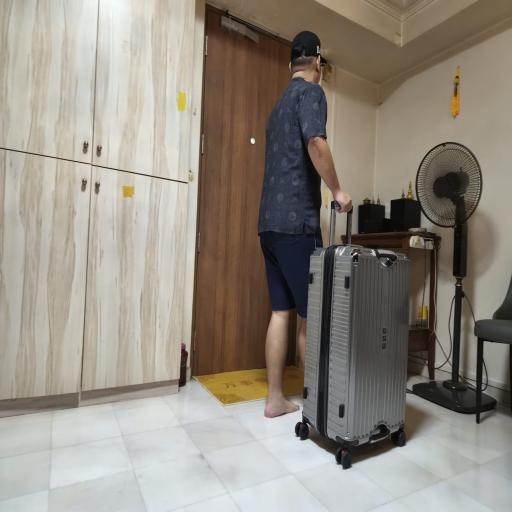person_right: (256, 14, 423, 483)
